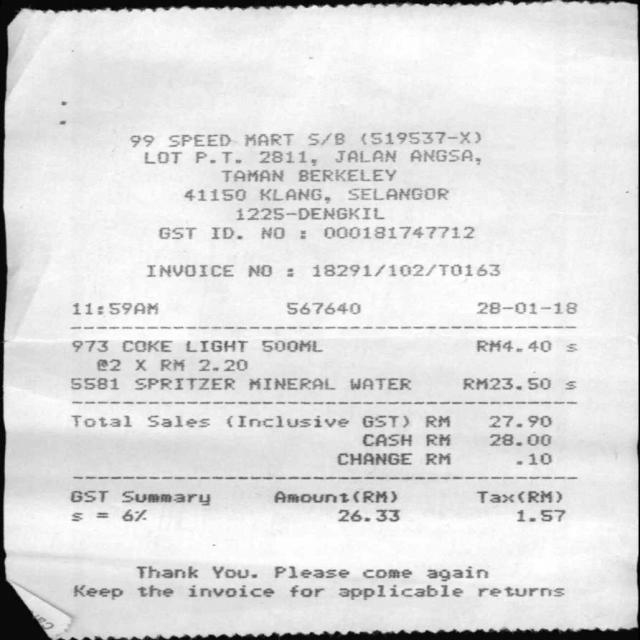text: (312, 264, 498, 275), (234, 208, 382, 220), (338, 584, 461, 598), (324, 226, 472, 237), (274, 490, 398, 502), (362, 131, 479, 143), (477, 301, 576, 314), (121, 490, 209, 504), (227, 416, 347, 426), (297, 169, 394, 181), (348, 188, 447, 199), (134, 378, 233, 389), (146, 264, 232, 276), (72, 302, 158, 314), (476, 490, 560, 502), (188, 585, 273, 596), (248, 378, 332, 389), (474, 339, 550, 351), (285, 302, 359, 314), (338, 452, 410, 464), (462, 378, 548, 388), (426, 566, 487, 580), (258, 188, 329, 200), (478, 586, 562, 596), (274, 566, 348, 577), (258, 150, 314, 164), (183, 188, 245, 200), (146, 414, 208, 426), (488, 433, 550, 445), (337, 509, 398, 521), (70, 414, 130, 426), (184, 340, 246, 351), (72, 584, 120, 598), (135, 566, 196, 577), (260, 340, 320, 351), (169, 134, 228, 145), (349, 378, 408, 389), (335, 150, 393, 161), (220, 170, 282, 180), (409, 150, 470, 160), (488, 416, 549, 426), (362, 433, 409, 445), (246, 133, 292, 145), (516, 509, 562, 521), (122, 340, 171, 351), (198, 359, 245, 370), (211, 566, 255, 577), (70, 378, 117, 388), (144, 151, 182, 163), (69, 490, 106, 502), (196, 152, 240, 162), (362, 416, 406, 426), (308, 132, 343, 144), (516, 452, 550, 464), (136, 585, 172, 596), (362, 570, 409, 578), (290, 585, 323, 596), (159, 227, 194, 237), (72, 340, 106, 350), (211, 227, 240, 238), (426, 433, 448, 445), (425, 452, 449, 463), (121, 509, 145, 520), (96, 359, 119, 370), (130, 135, 152, 146), (160, 359, 182, 370), (426, 415, 448, 426), (262, 227, 283, 238), (248, 265, 270, 275), (70, 512, 81, 520), (566, 343, 576, 351), (136, 359, 144, 369), (565, 381, 574, 389)
